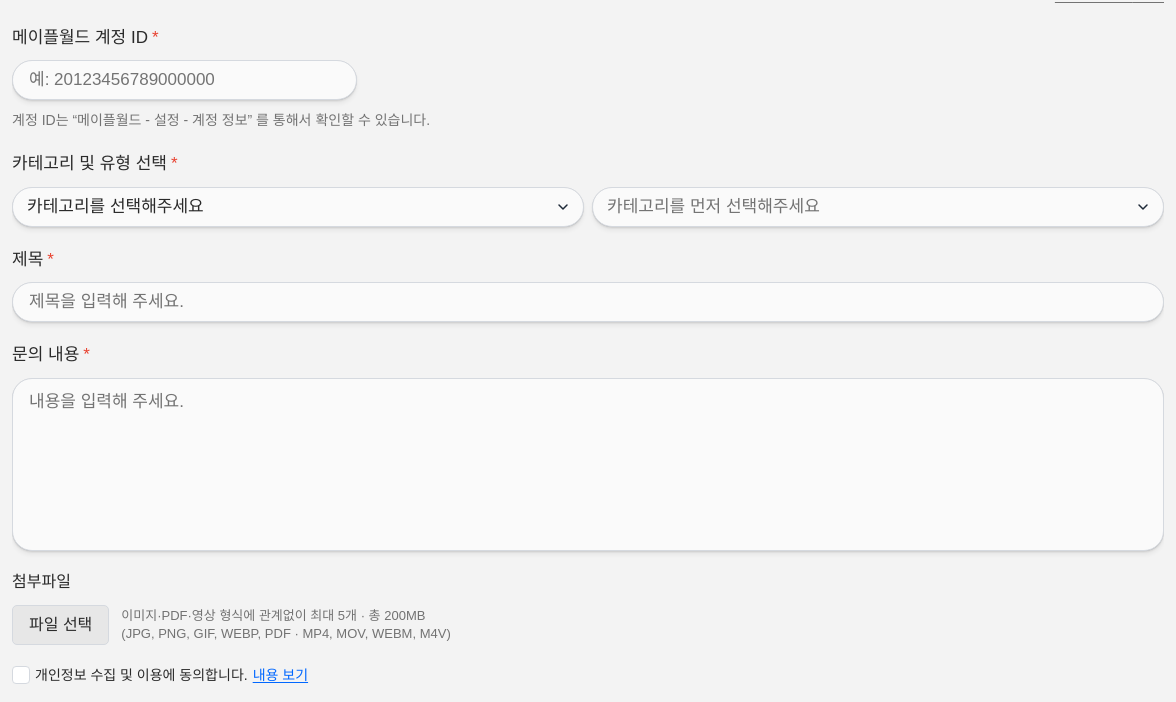
Scenario: InquiryForm 동의 체크박스 › should keep submit locked until the consent box is checked
The width and height of the screenshot is (1176, 702).
In the field labelled "메이플월드 계정 ID*": (184, 80) [12,60,357,100], type "gjstory01"
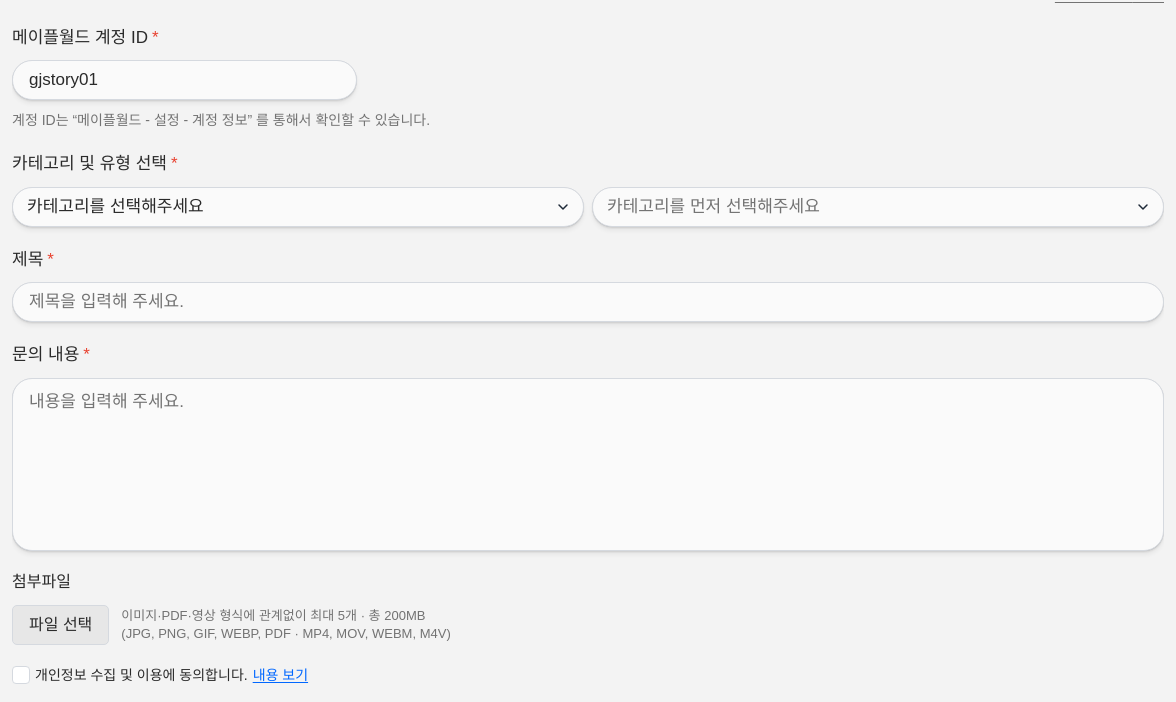
Select "기타·건의" in the dropdown labelled "카테고리 및 유형 선택*": (298, 206) [12,186,584,226]
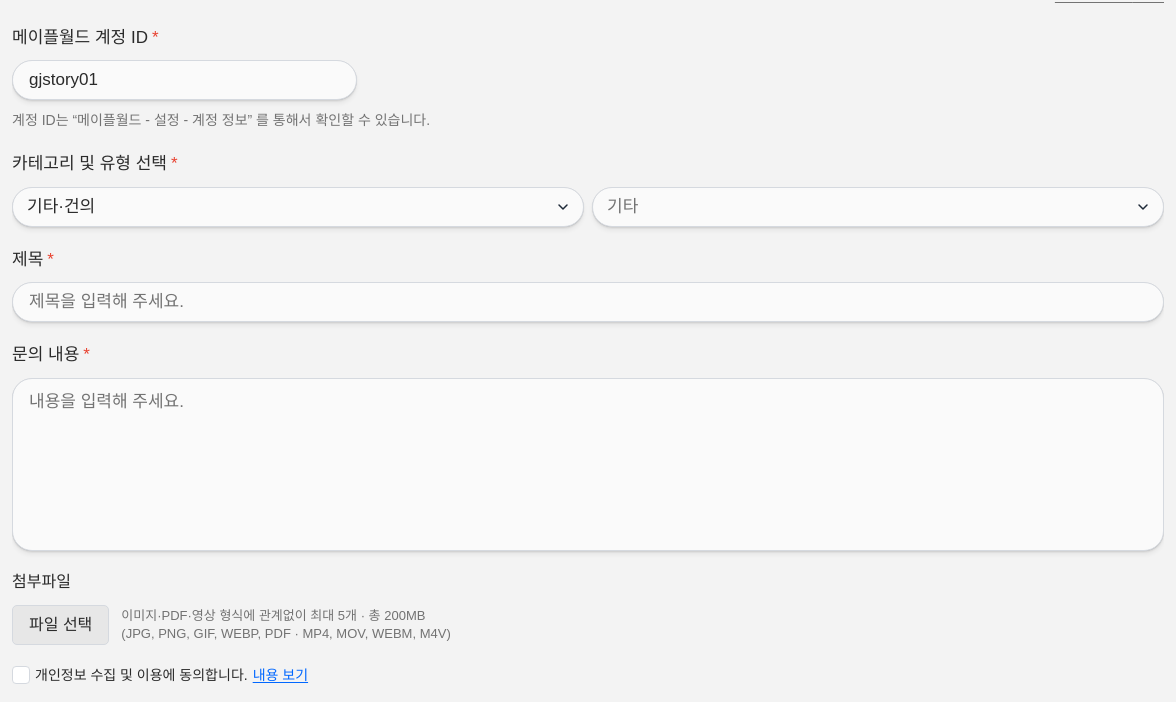
In the field labelled "제목*": (588, 302) [12,282,1164,322], type "문의 제목"
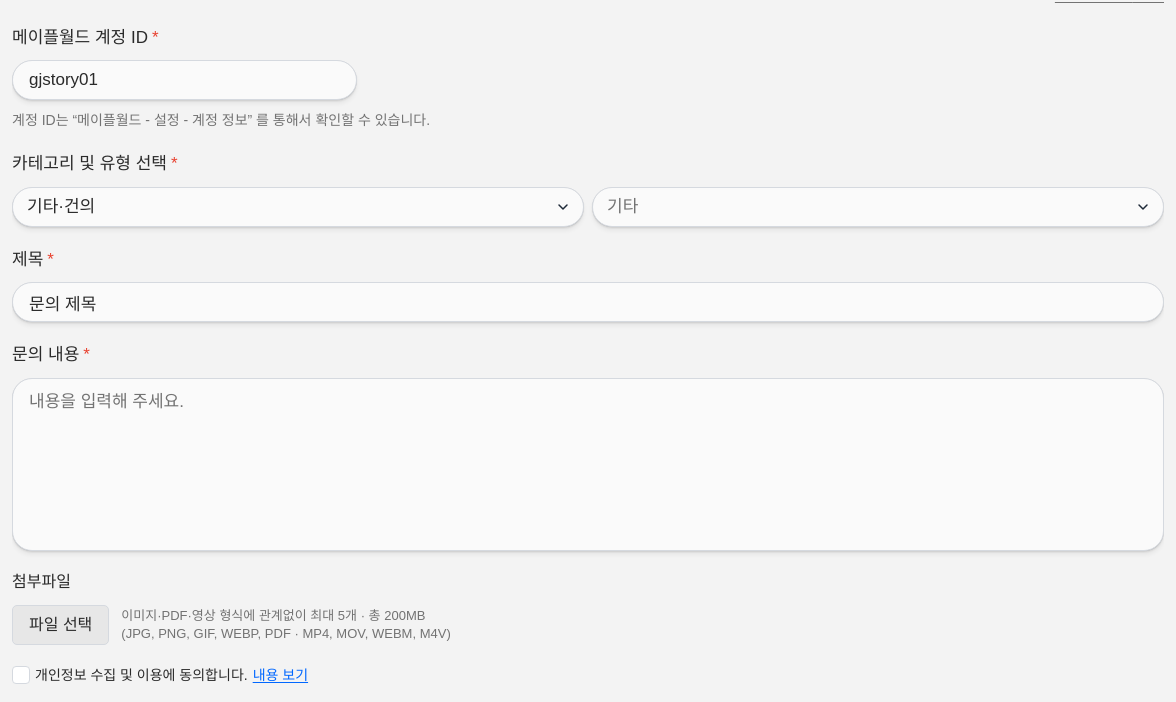
In the text box labelled "문의 내용*": (588, 464) [12,378,1164,550], type "문의 내용입니다."
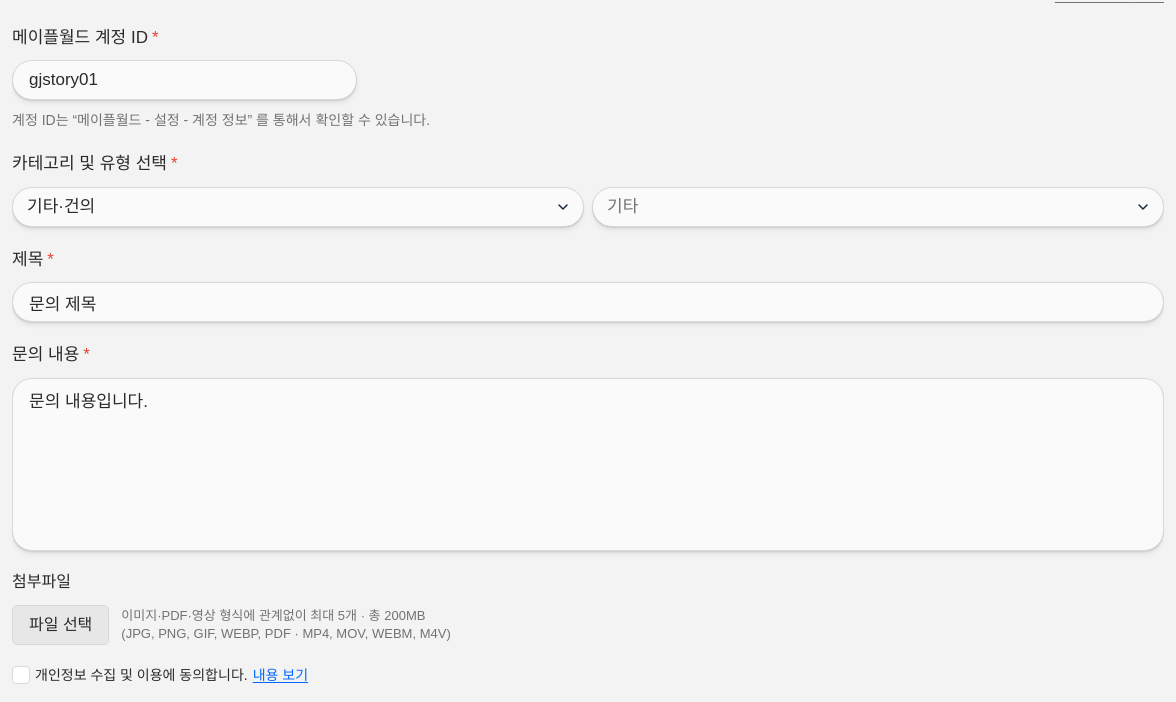
Click the checkbox labelled "개인정보 수집 및 이용에 동의합니다.": (21, 674) [12,666,30,684]
(page scrolled)
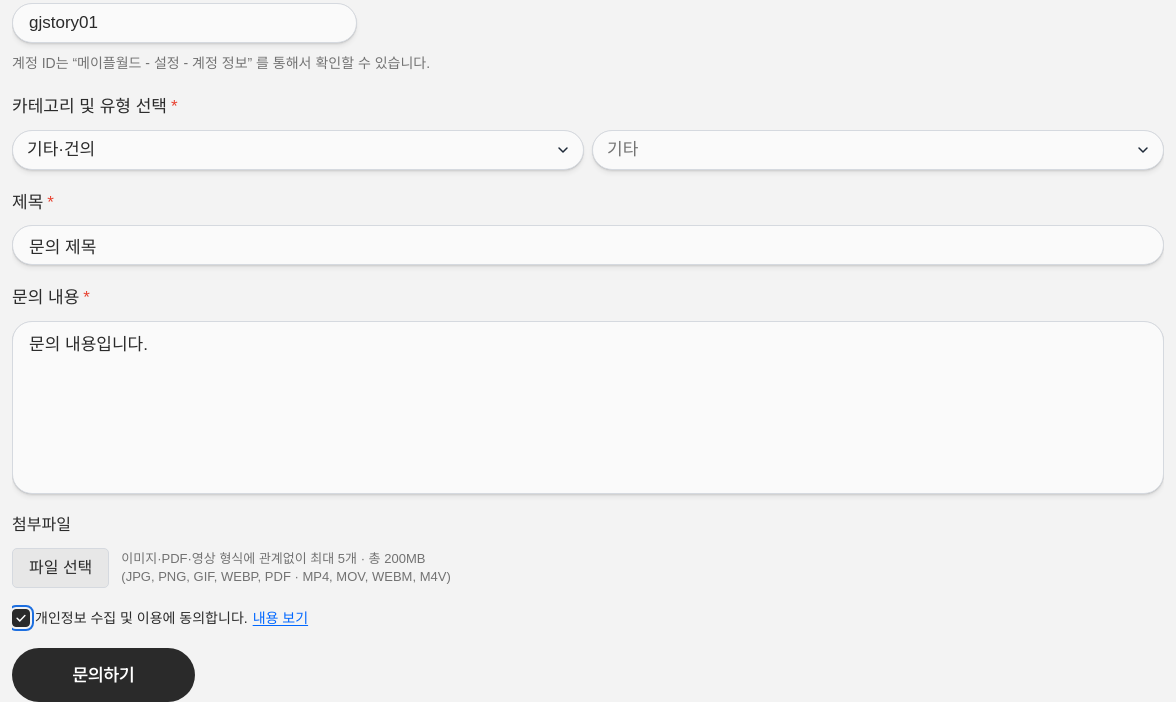
Result: the icon with test id "support-checkbox-mark" is shown at [12,608,30,626]
Result: the button "문의하기" is enabled at [12,648,195,701]
